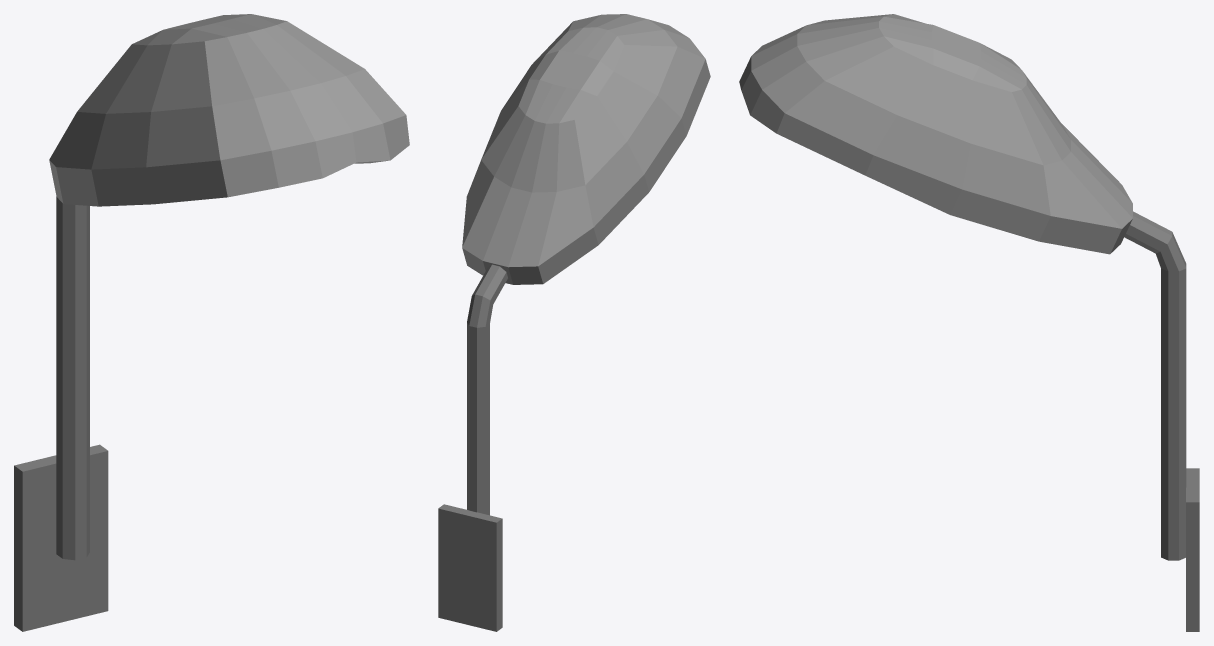
The model's file is Wh_Street_Lamp.fbx.
3 views of the same model, side by side, from view 1: azimuth 30°, elevation 25°; view 2: azimuth 150°, elevation 25°; view 3: azimuth 270°, elevation 25° (orthographic). The views are drawn at different scales.
Visible parts, largest first — view 1: Cube.1061; view 2: Cube.1061; view 3: Cube.1061.
Boxes of the visible parts, bbox=[...] form: Cube.1061: bbox=[14, 14, 409, 631]; Cube.1061: bbox=[438, 14, 710, 631]; Cube.1061: bbox=[739, 14, 1199, 631].
Bounding box in the file's own units: 57.25 × 177 × 125.
